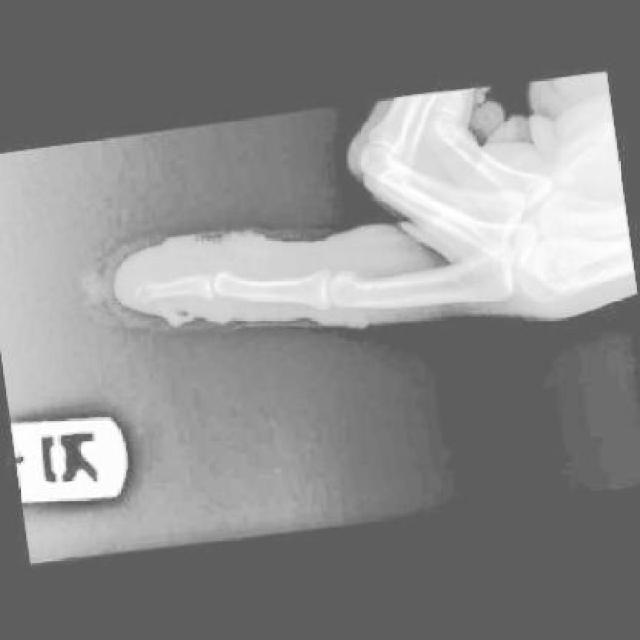Fracture: (133, 277, 162, 310)
